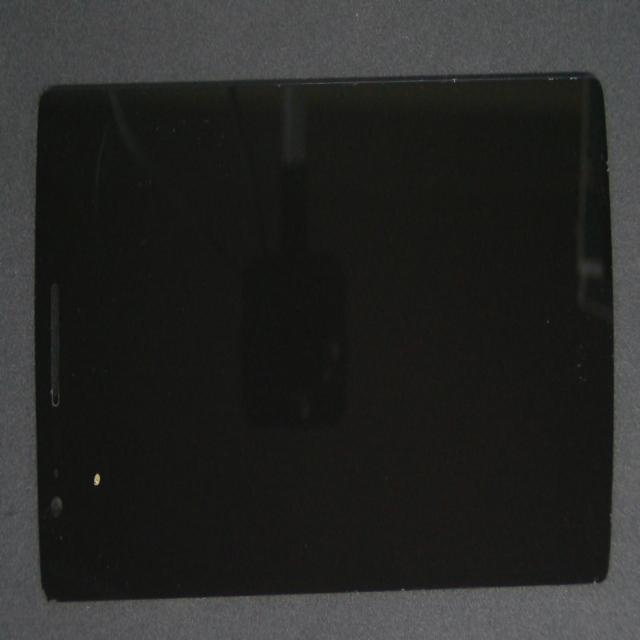stain: (11, 223, 134, 640)
